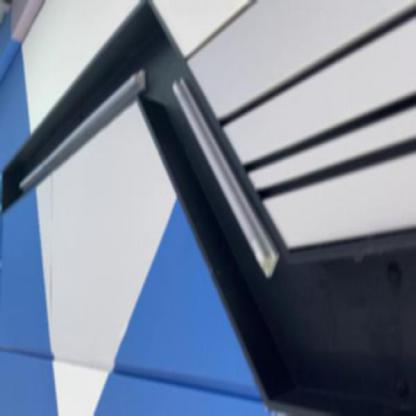light_off: (169, 55, 282, 288), (11, 50, 150, 220)
